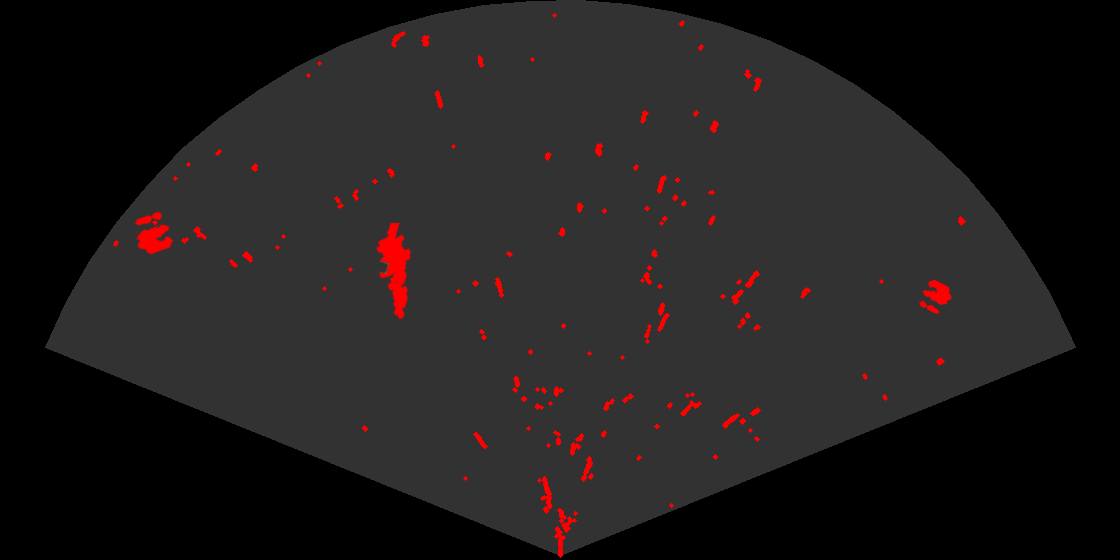ball: (133, 210, 175, 256), (918, 278, 953, 316)
frogman: (374, 223, 413, 321)
